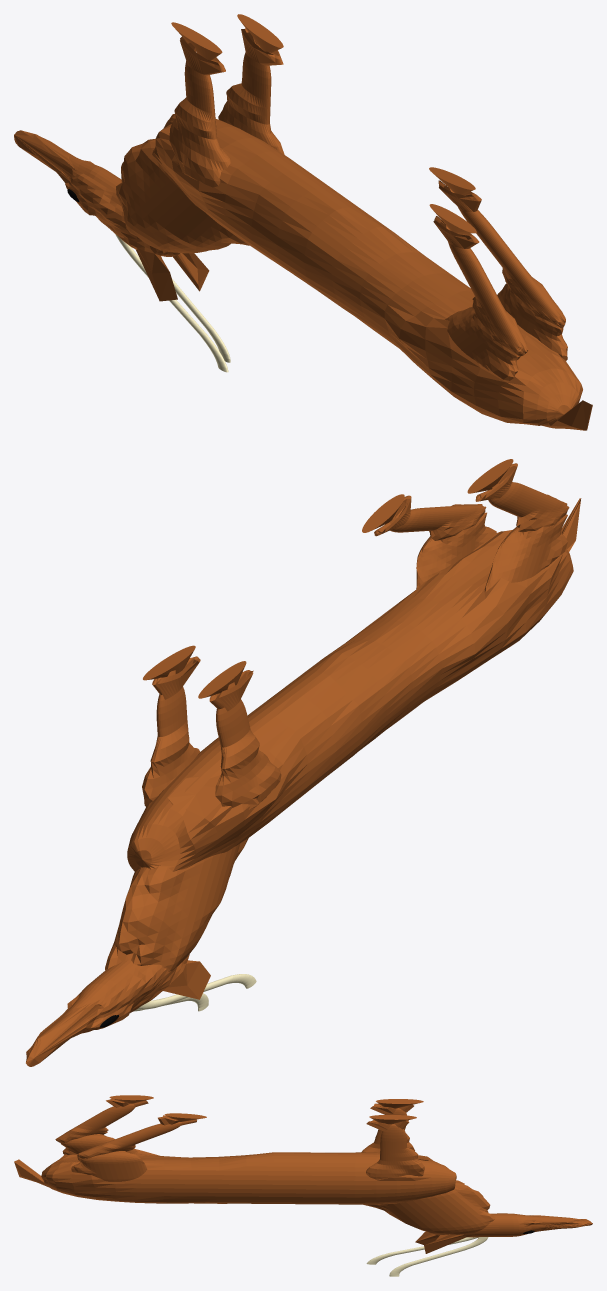
File: Cervo.obj
3 renders of one model, top to bottom at view 1: azimuth 30°, elevation 25°; view 2: azimuth 150°, elevation 25°; view 3: azimuth 270°, elevation 25°, orthographic. The views are drawn at different scales.
Visible parts, largest first — view 1: Corpo.1; view 2: Corpo.1; view 3: Corpo.1.
Part boxes in pixels (x1,y1,x2,y2): Corpo.1: (14,14,592,430); Corpo.1: (26,459,581,1066); Corpo.1: (14,1095,592,1276).
Size of the model in its own units: 45.61 by 152 by 462.
